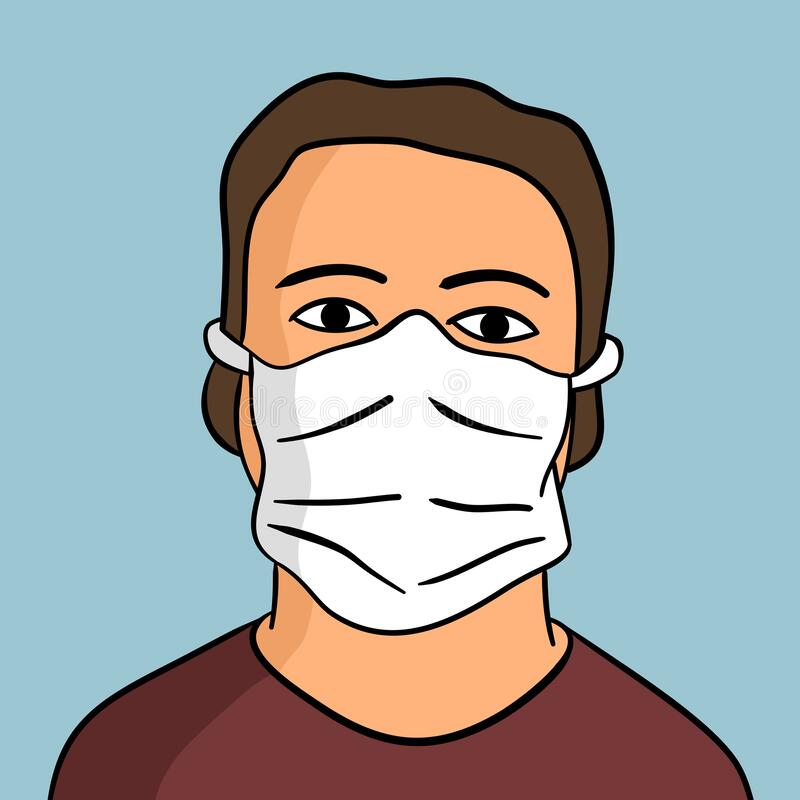mask: (214, 312, 616, 643)
